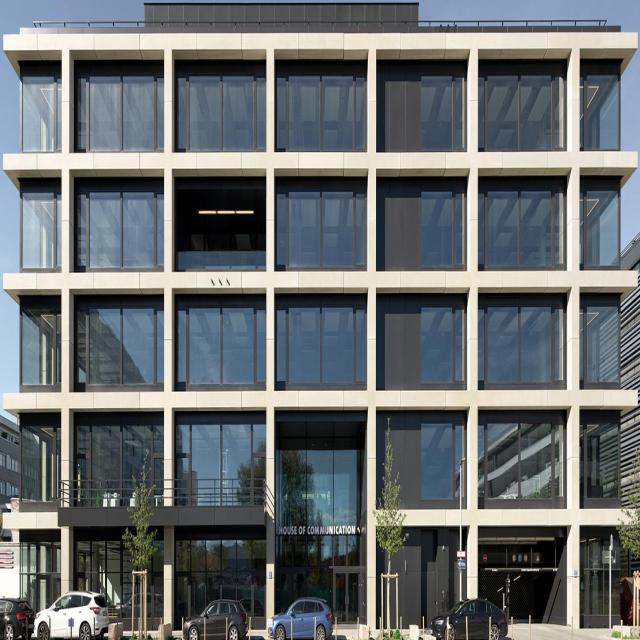door: (277, 437, 362, 627)
railing: (59, 480, 267, 508)
window: (176, 534, 265, 626), (479, 420, 565, 508), (81, 537, 164, 621), (174, 308, 266, 382), (174, 74, 265, 148), (480, 309, 564, 389), (478, 190, 565, 267), (277, 75, 367, 149), (275, 195, 365, 269), (276, 311, 366, 385), (76, 77, 162, 151), (74, 197, 160, 271), (75, 308, 161, 382), (481, 76, 567, 147), (74, 422, 164, 483), (175, 423, 266, 480), (421, 305, 466, 387), (580, 424, 621, 509), (22, 423, 61, 512), (583, 530, 618, 625), (422, 189, 464, 267), (20, 75, 63, 151), (19, 310, 61, 387), (422, 424, 464, 501), (419, 78, 466, 146), (19, 191, 61, 267), (20, 539, 64, 609), (581, 78, 621, 149), (580, 311, 620, 382), (580, 193, 620, 263), (179, 253, 264, 268)
